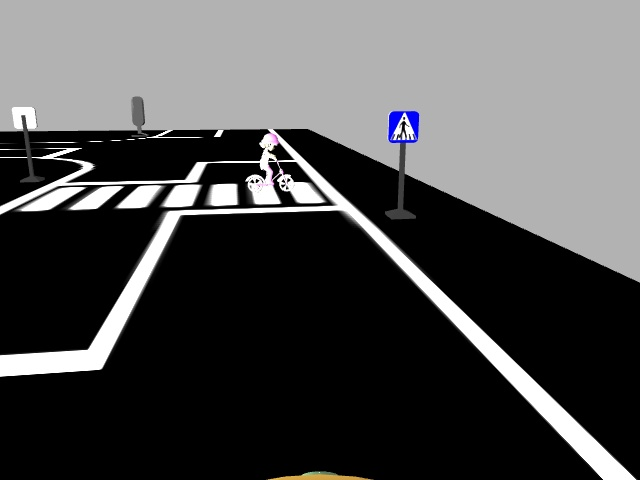Crosswalk: (385, 107, 419, 142)
Pedestrian: (241, 128, 295, 192)
